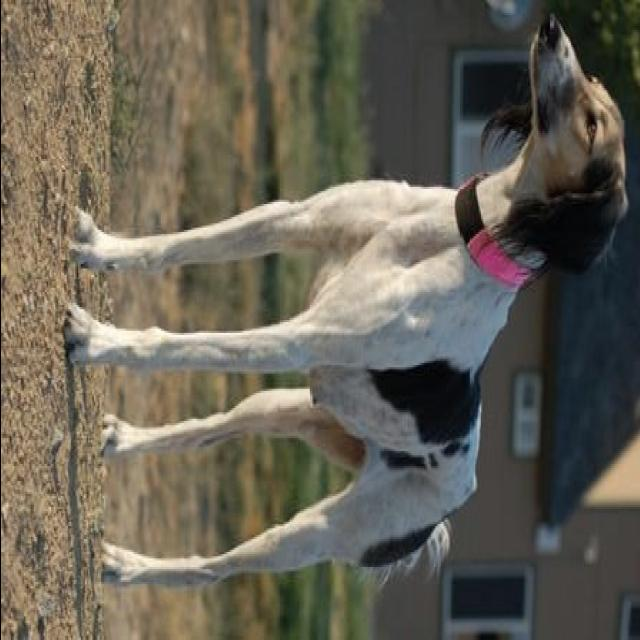saluki: (69, 17, 626, 584)
